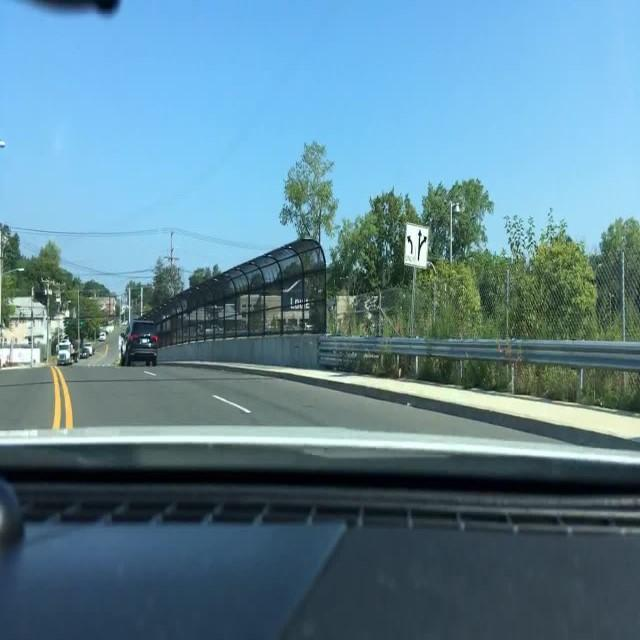normal: (34, 296, 171, 376)
